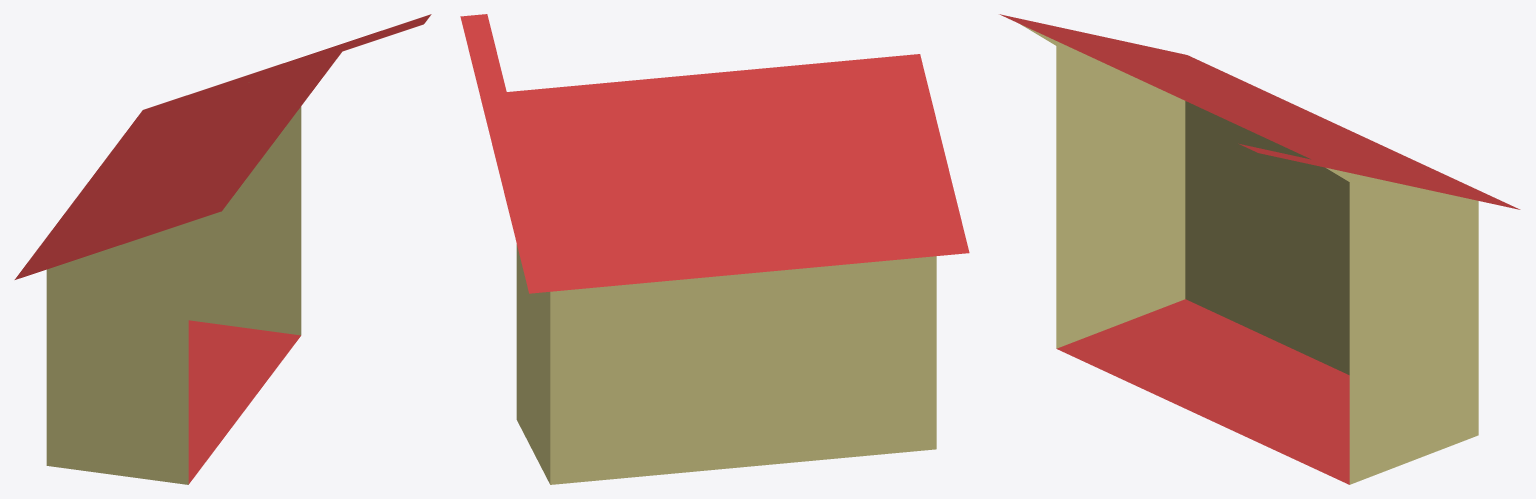
3 views of the same model, side by side, from view 1: azimuth 30°, elevation 25°; view 2: azimuth 150°, elevation 25°; view 3: azimuth 270°, elevation 25° (orthographic). The views are drawn at different scales.
Size of the model in its own units: 14.97 by 12.91 by 10.47.
